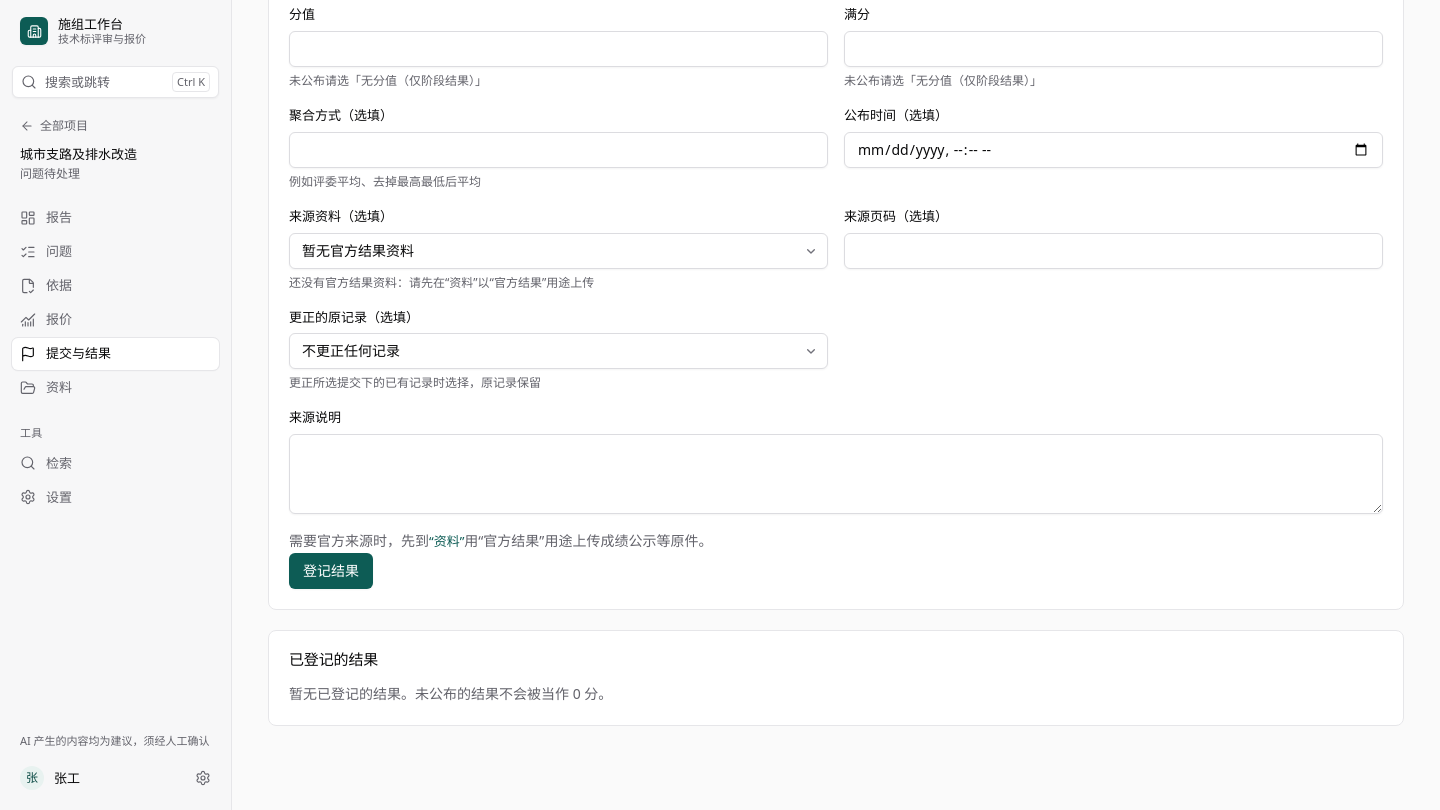
Test case: 结果登记（提交与结果页“开标结果”标签） › 有分值的成绩类型必须同时填分值和满分：留空不发请求，并提示改选“无分值”
(page scrolled)
Expected: the text "暂无已登记的结果。未公布的结果不会被当作 0 分。" is shown, [289,684,612,703]
Expected: the text "未公布请选「无分值（仅阶段结果）」" is shown 2 times, [289,72,487,89]; [844,72,1042,89]
Step 1. Type "公示" into the text box labelled "来源说明" → (836, 474), box [289,434,1383,514]
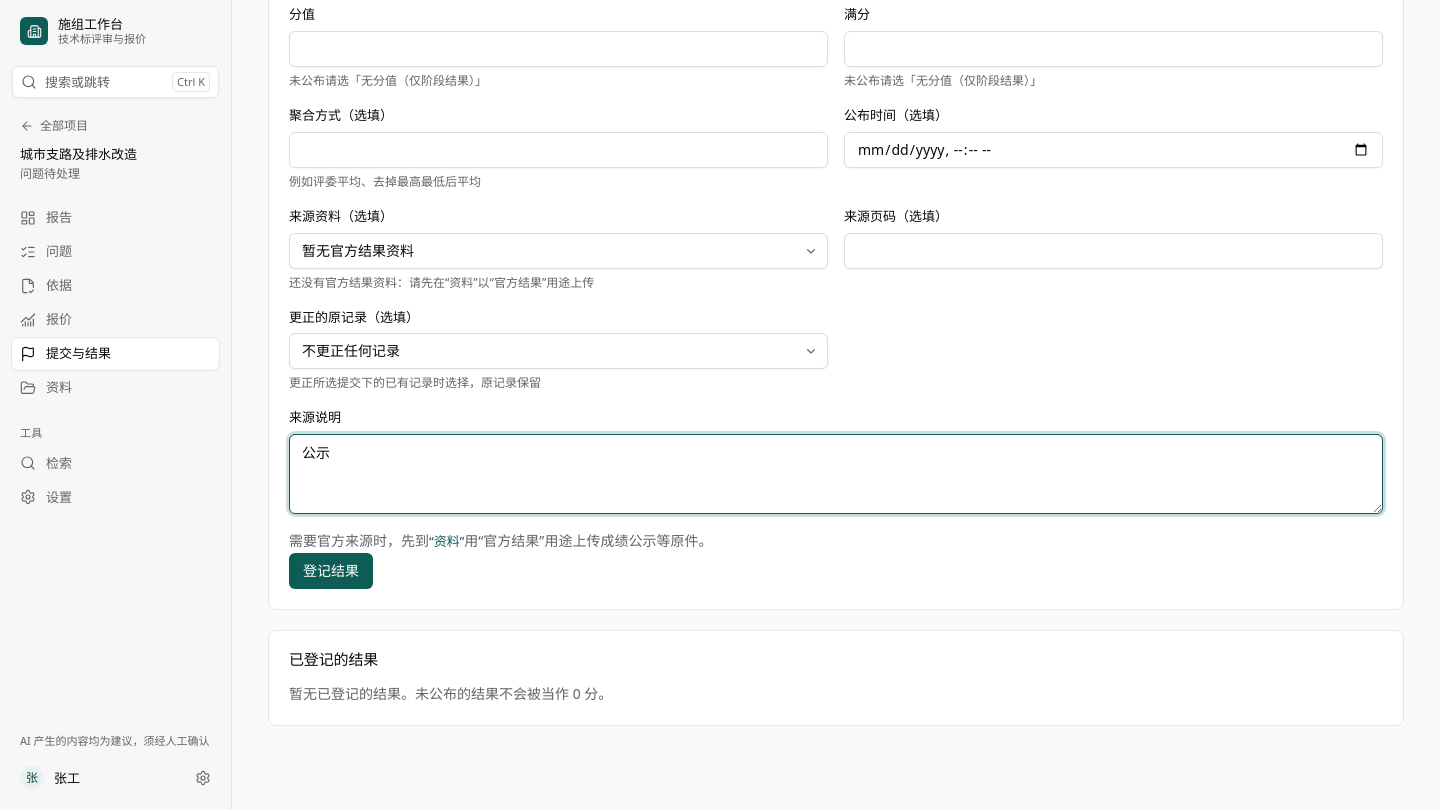
Step 2. Click the button "登记结果" → (331, 571), box [289,553,373,589]
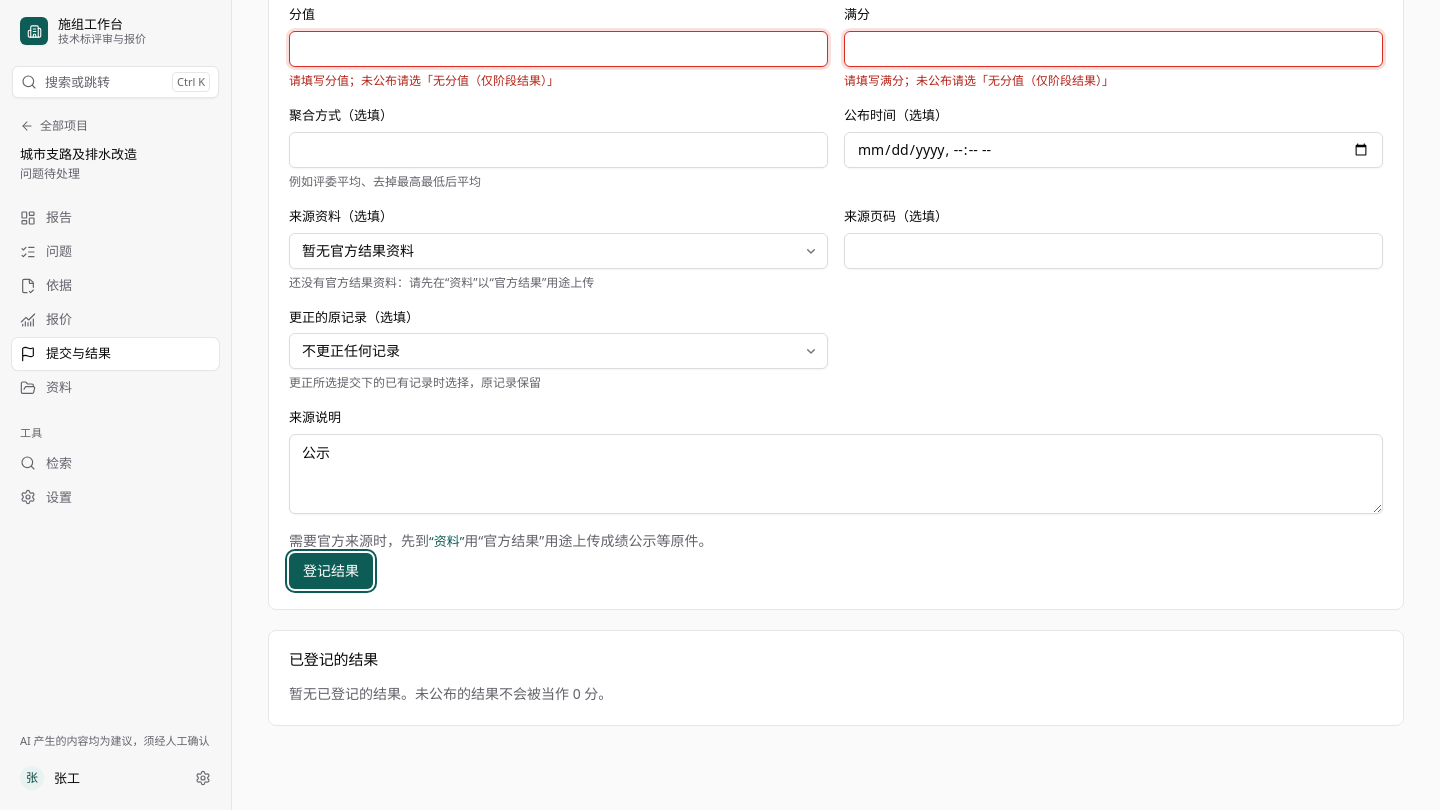
Expected: the text "请填写分值；未公布请选「无分值（仅阶段结果）」" is shown 2 times, [289,72,559,89]; [844,72,1114,89]
Expected: the text "请填写分值；未公布请选「无分值（仅阶段结果）」" is shown, [289,72,559,89]
Expected: the text "请填写满分；未公布请选「无分值（仅阶段结果）」" is shown, [844,72,1114,89]
